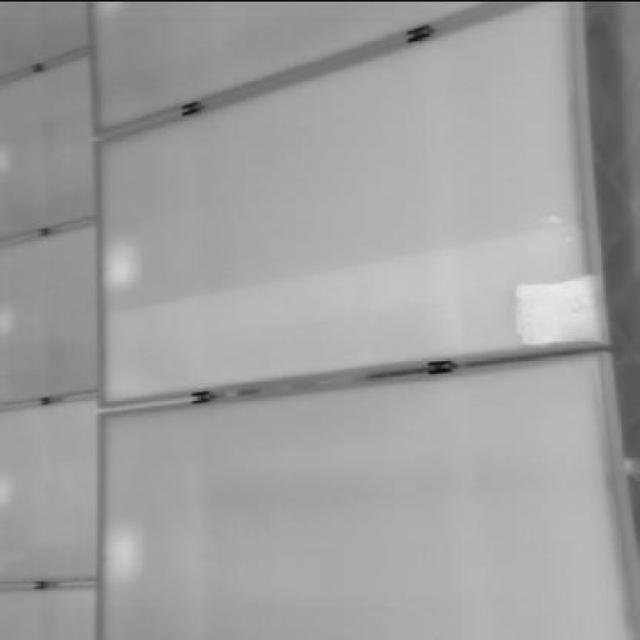hotspot: (514, 273, 600, 347)
